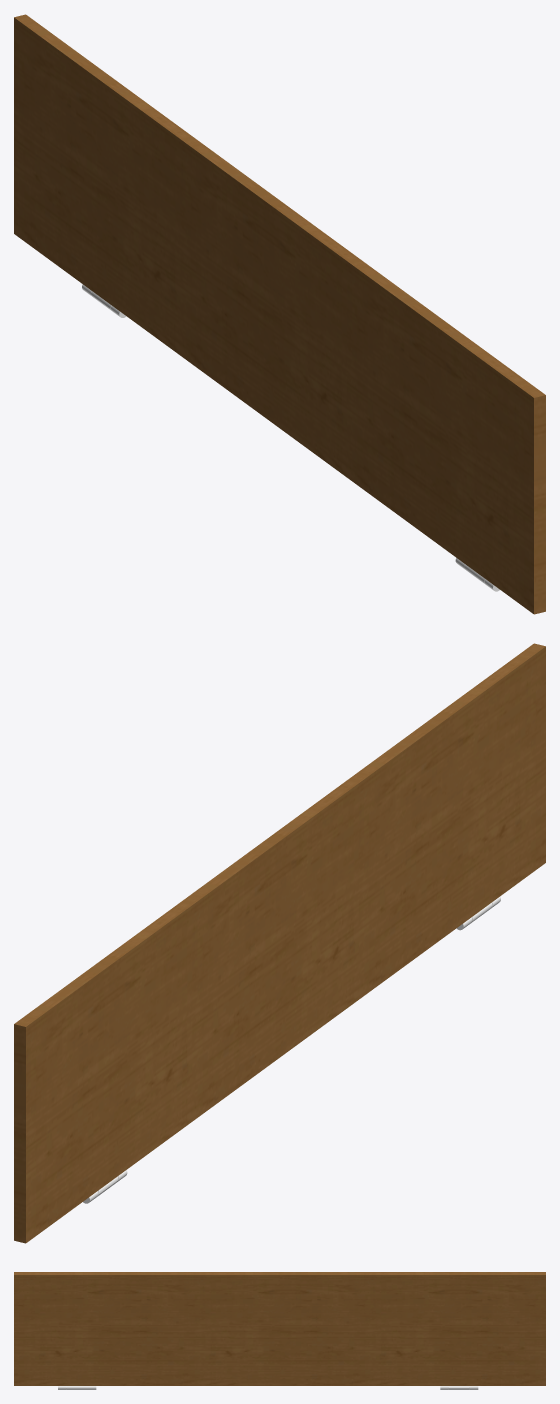
Rendered from DoorPart01.obj.
The picture shows the model from 3 angles, top to bottom: view 1: azimuth 30°, elevation 25°; view 2: azimuth 150°, elevation 25°; view 3: azimuth 270°, elevation 25°; orthographic projection. The views are drawn at different scales.
Visible parts, largest first — view 1: DoorPart01; view 2: DoorPart01; view 3: DoorPart01.
Boxes of the visible parts, x1=… form: DoorPart01: x1=14, y1=14, x2=545, y2=614; DoorPart01: x1=14, y1=643, x2=545, y2=1243; DoorPart01: x1=14, y1=1272, x2=545, y2=1389.
Bounding box in the file's own units: 0.0287 × 0.522 × 2.17.
Materials: 2 (1 with a texture image).
